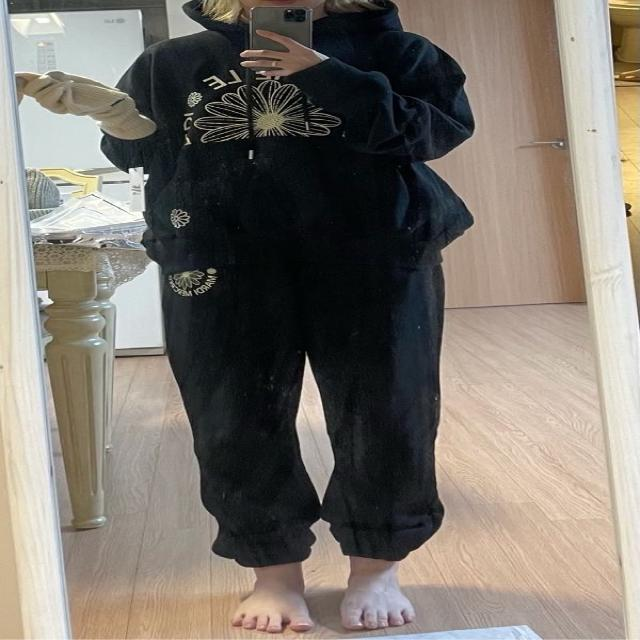hoodies: (100, 0, 475, 260)
trainingpants: (160, 247, 443, 568)
